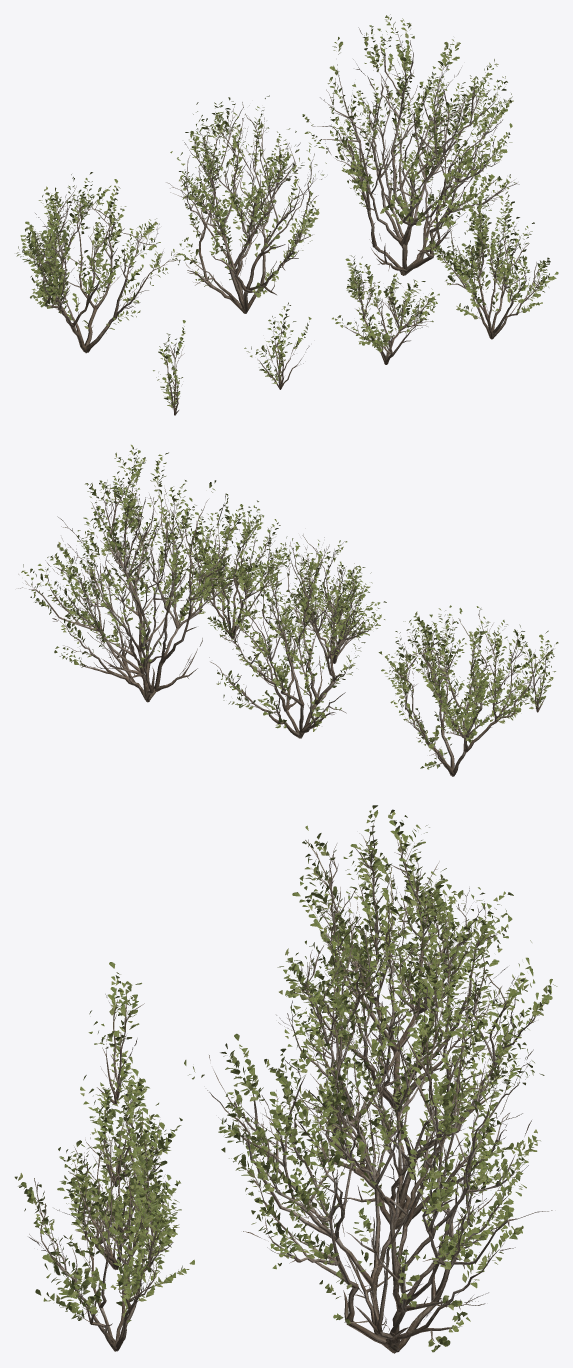
File: searsia_lucida.glb
3 views of the same model, one above another, from view 1: azimuth 30°, elevation 25°; view 2: azimuth 150°, elevation 25°; view 3: azimuth 270°, elevation 25° (orthographic). The views are drawn at different scales.
Parts seen in each view (by area): view 1: searsia_lucida_a_LOD0, searsia_lucida_b_LOD0, searsia_lucida_c_LOD0, searsia_lucida_d_LOD0, searsia_lucida_e_LOD0, searsia_lucida_f_LOD0, searsia_lucida_g_LOD0; view 2: searsia_lucida_a_LOD0, searsia_lucida_b_LOD0, searsia_lucida_c_LOD0, searsia_lucida_d_LOD0, searsia_lucida_e_LOD0, searsia_lucida_f_LOD0, searsia_lucida_g_LOD0; view 3: searsia_lucida_a_LOD0, searsia_lucida_b_LOD0, searsia_lucida_c_LOD0, searsia_lucida_d_LOD0, searsia_lucida_e_LOD0, searsia_lucida_g_LOD0, searsia_lucida_f_LOD0.
Part boxes in pixels (x1,y1,x2,y2): searsia_lucida_a_LOD0: [302, 14, 519, 275]; searsia_lucida_b_LOD0: [166, 95, 326, 313]; searsia_lucida_c_LOD0: [16, 172, 190, 353]; searsia_lucida_d_LOD0: [425, 177, 558, 339]; searsia_lucida_e_LOD0: [332, 255, 439, 364]; searsia_lucida_f_LOD0: [244, 302, 311, 389]; searsia_lucida_g_LOD0: [153, 320, 185, 415]; searsia_lucida_a_LOD0: [18, 444, 266, 702]; searsia_lucida_b_LOD0: [207, 534, 374, 738]; searsia_lucida_c_LOD0: [378, 605, 558, 776]; searsia_lucida_d_LOD0: [172, 493, 294, 638]; searsia_lucida_e_LOD0: [282, 565, 386, 663]; searsia_lucida_f_LOD0: [403, 611, 466, 686]; searsia_lucida_g_LOD0: [513, 630, 555, 712]; searsia_lucida_a_LOD0: [184, 949, 552, 1353]; searsia_lucida_b_LOD0: [276, 875, 557, 1229]; searsia_lucida_c_LOD0: [279, 805, 513, 1107]; searsia_lucida_d_LOD0: [14, 1101, 194, 1351]; searsia_lucida_e_LOD0: [54, 1065, 182, 1269]; searsia_lucida_g_LOD0: [88, 962, 144, 1104]; searsia_lucida_f_LOD0: [80, 1074, 161, 1186].
Bounding box in the file's own units: 1.99 × 0.9721 × 1.18.
Materials: 2 (2 with a texture image).
